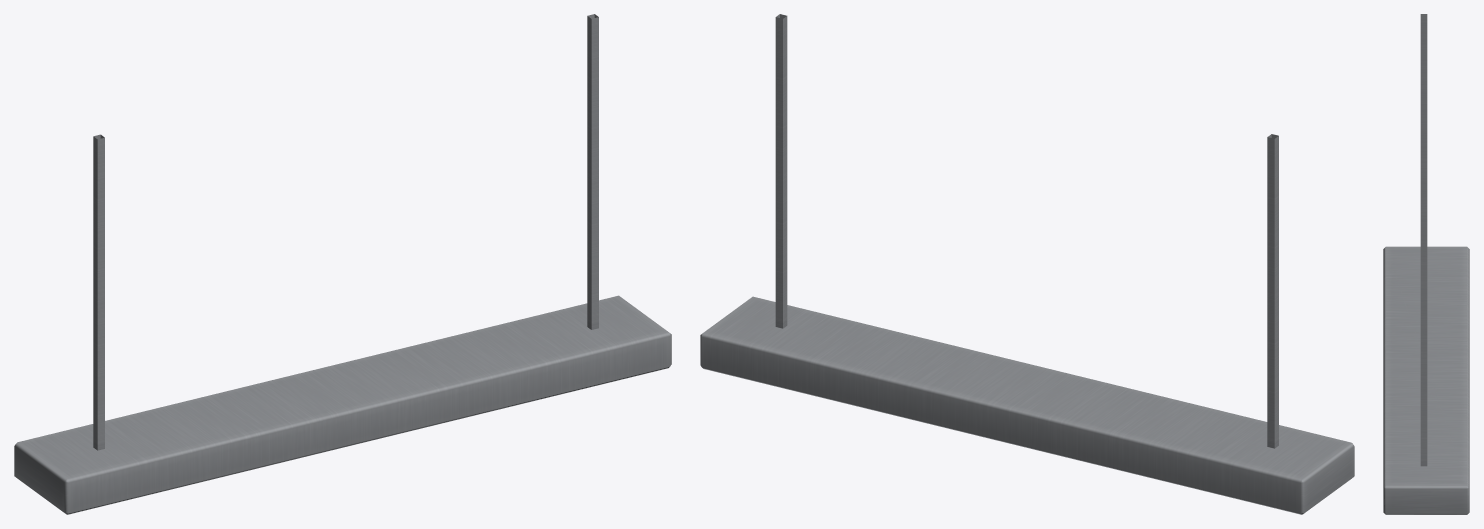
Rendered from SlimLight.fbx.
3 renders of one model, left to right at view 1: azimuth 30°, elevation 25°; view 2: azimuth 150°, elevation 25°; view 3: azimuth 270°, elevation 25°, orthographic. The views are drawn at different scales.
Visible parts, largest first — view 1: SlimLight; view 2: SlimLight; view 3: SlimLight.
Part boxes in pixels (left/top/right/bottom): SlimLight: left=14, top=14, right=671, bottom=514; SlimLight: left=700, top=14, right=1354, bottom=514; SlimLight: left=1383, top=14, right=1469, bottom=514.
Size of the model in its own units: 125 by 68.48 by 18.98.
